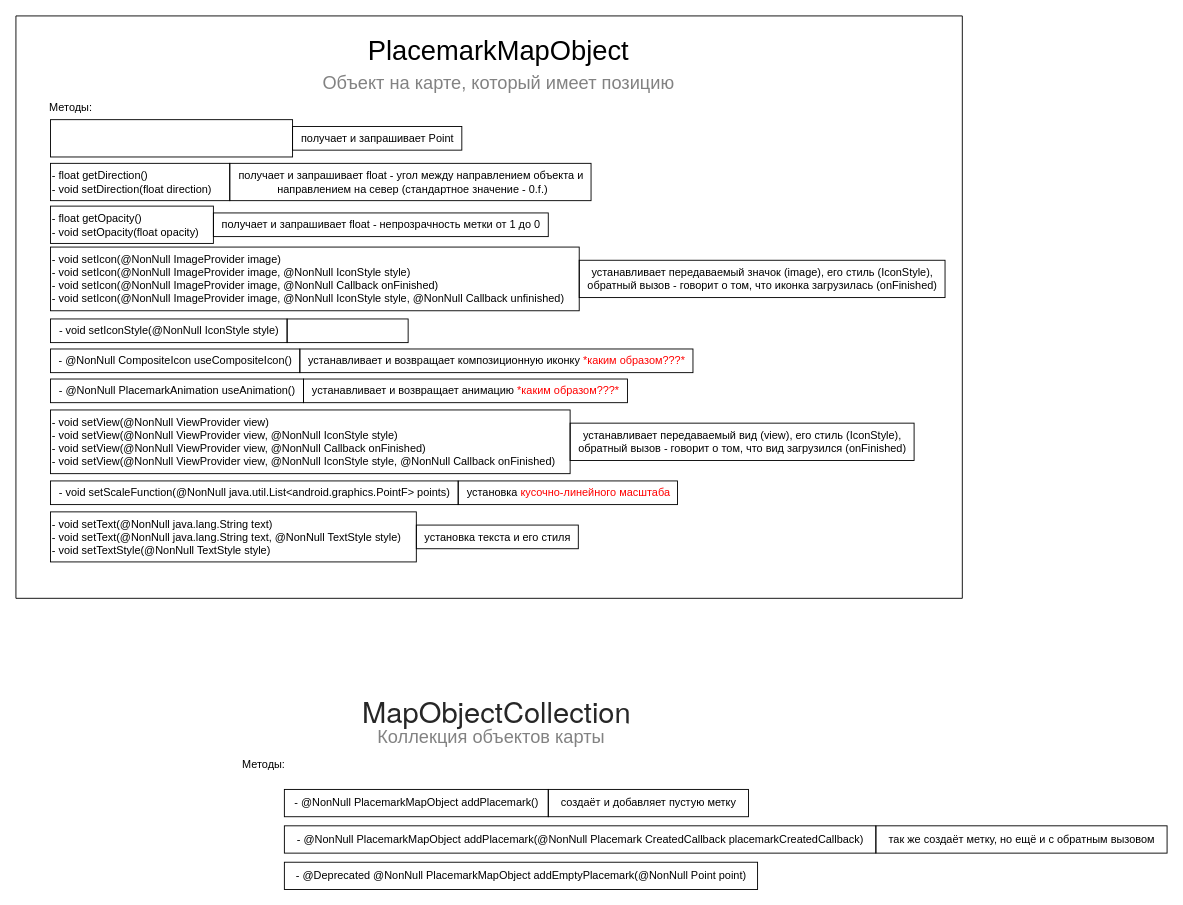
Some shapes in this 1183 by 905 pixel diagram are drawn without their labels. The box of each missing label's shape, as (x1, y1, x2, y2) in pixels:
- @NonNull Point getGeometry - void setGeometry(@NonNull Point geometry): (50, 119, 293, 157)
меняет стиль значка: (286, 318, 408, 343)
